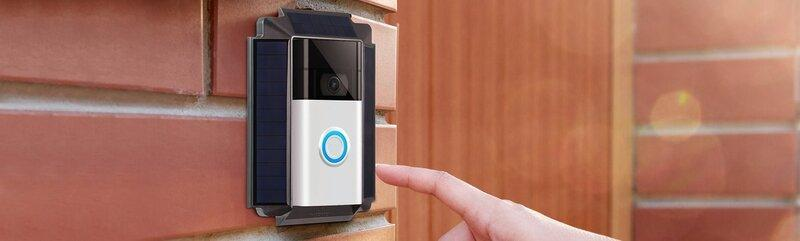doorbell: (246, 8, 386, 224)
